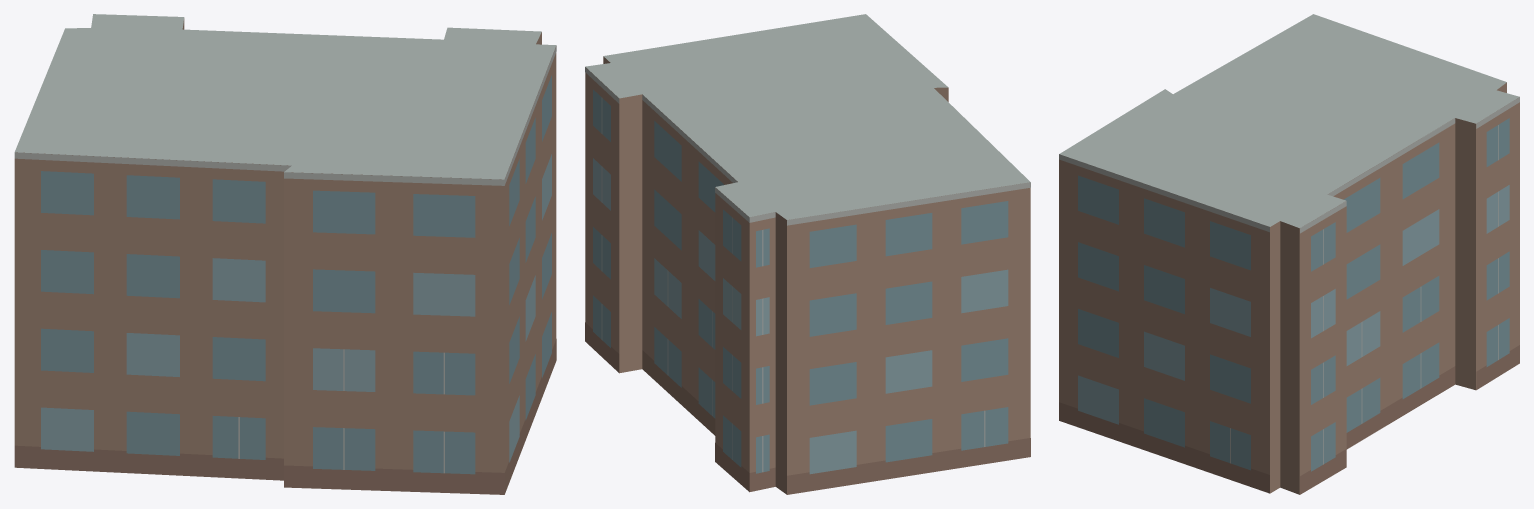
Rendered from survey-upis-32823734.glb.
The picture shows the model from 3 angles, left to right: view 1: azimuth 30°, elevation 25°; view 2: azimuth 150°, elevation 25°; view 3: azimuth 270°, elevation 25°; orthographic projection. The views are drawn at different scales.
Parts seen in each view (by area): view 1: survey-upis-32823734.tmp; view 2: survey-upis-32823734.tmp; view 3: survey-upis-32823734.tmp.
Boxes of the visible parts, box(x1,y1,x2,y2) form: survey-upis-32823734.tmp: box(14, 14, 556, 494); survey-upis-32823734.tmp: box(585, 14, 1030, 494); survey-upis-32823734.tmp: box(1059, 14, 1519, 494).
Size of the model in its own units: 20.87 by 12.1 by 18.96.
